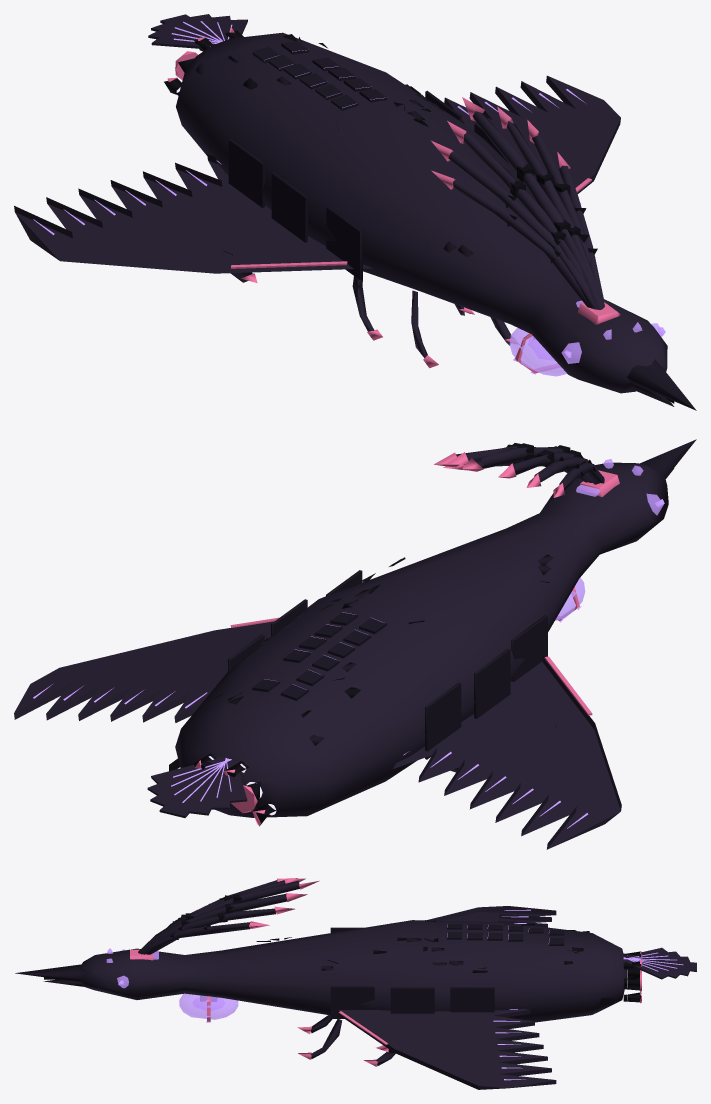
File: choral-piesniarze-hawk-77-lod1.glb
3 renders of one model, top to bottom at view 1: azimuth 30°, elevation 25°; view 2: azimuth 150°, elevation 25°; view 3: azimuth 270°, elevation 25°, orthographic. The views are drawn at different scales.
Bounding box in the file's own units: 65.76 × 28.9 × 104.
